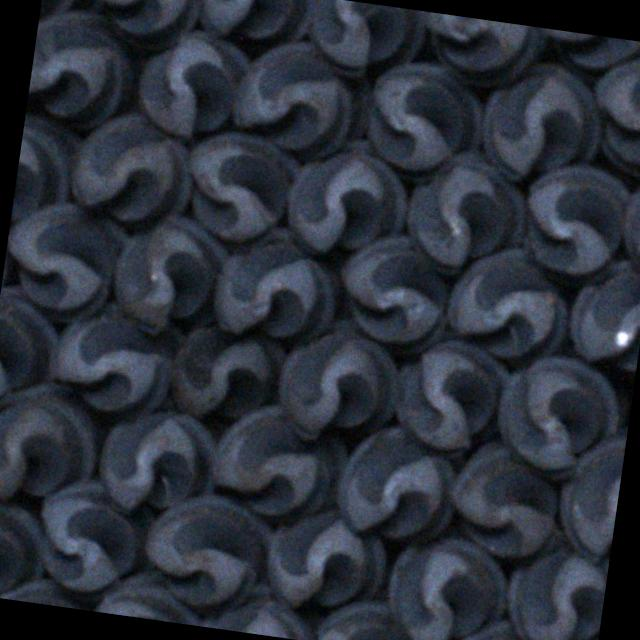tool_b: (208, 396, 355, 528), (137, 484, 275, 616), (400, 144, 534, 278), (359, 57, 493, 190), (476, 58, 608, 192), (0, 195, 132, 328), (228, 33, 362, 164), (271, 320, 406, 450), (109, 204, 235, 342), (332, 421, 464, 552), (211, 221, 344, 351), (330, 228, 460, 360), (440, 438, 572, 566), (492, 348, 624, 476), (442, 240, 576, 366), (66, 107, 202, 230), (47, 298, 179, 420), (258, 499, 392, 619), (282, 145, 414, 263), (96, 402, 225, 521), (387, 330, 508, 455), (380, 529, 515, 640), (179, 125, 301, 246), (25, 5, 142, 130), (30, 472, 146, 598), (133, 22, 254, 142), (518, 158, 635, 280), (0, 378, 107, 510), (164, 316, 285, 431), (498, 528, 612, 640), (414, 12, 541, 92), (305, 0, 423, 86), (552, 428, 626, 563), (10, 114, 84, 236), (565, 252, 640, 368), (0, 281, 66, 411), (195, 575, 322, 640), (583, 51, 640, 184), (74, 0, 202, 57), (189, 0, 314, 51), (0, 491, 49, 603), (314, 593, 425, 640)
